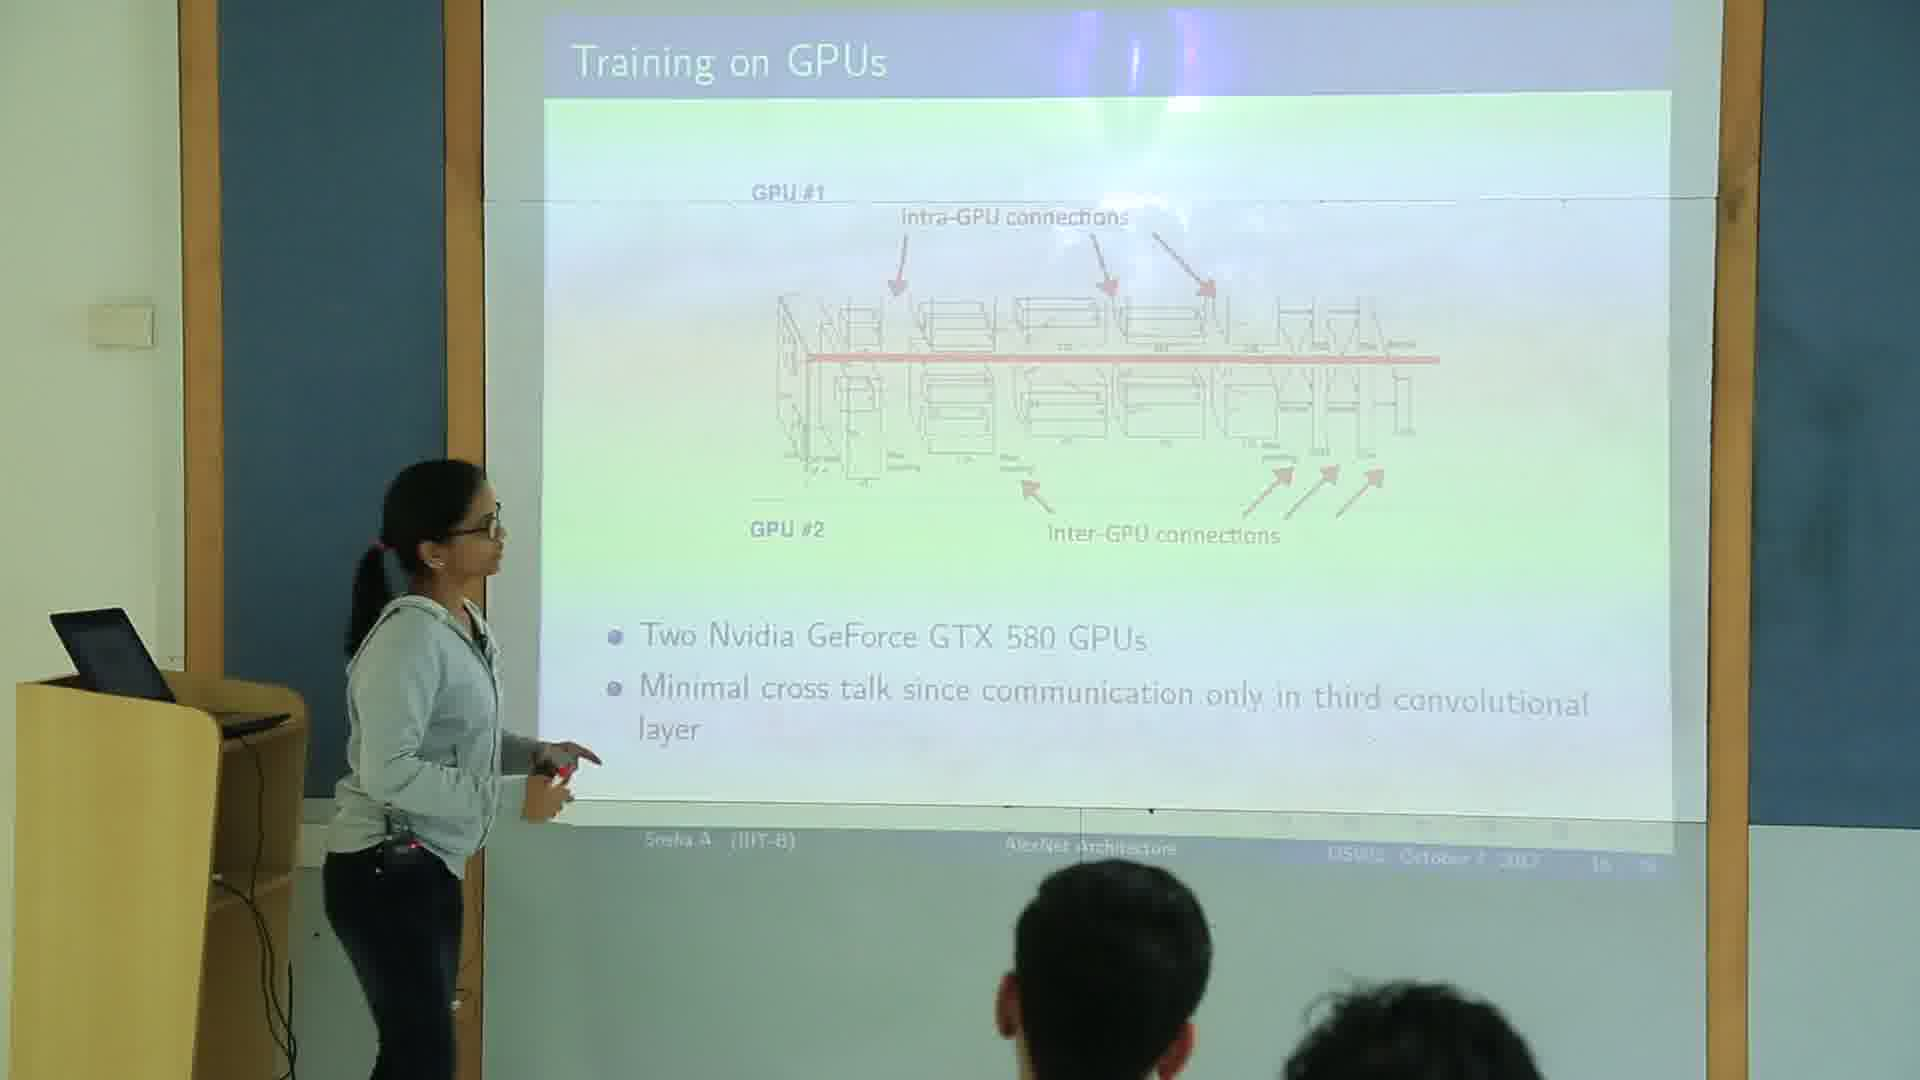slide: (538, 8, 1673, 880)
